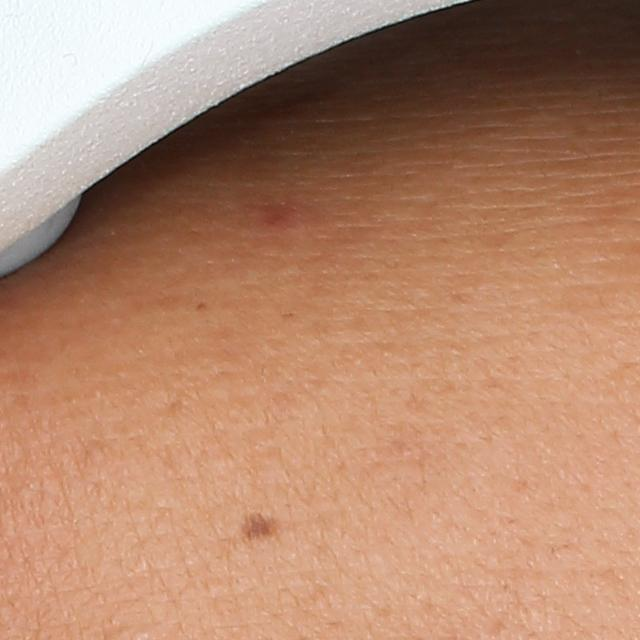nevus: (234, 511, 286, 545)
